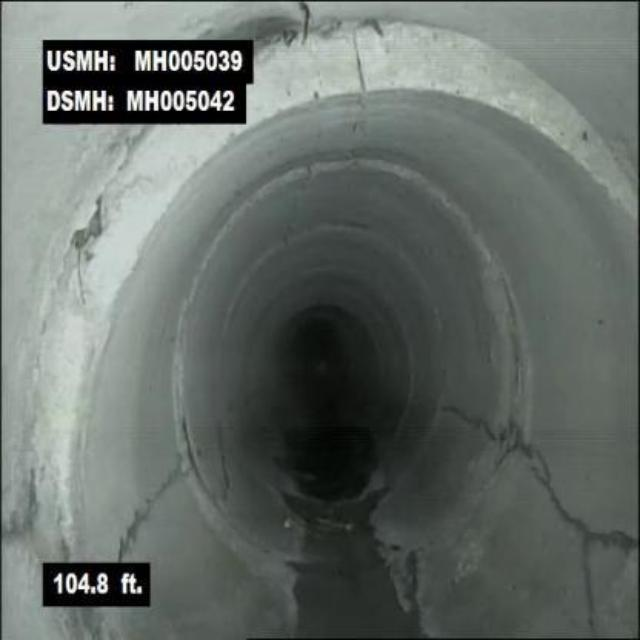Crack: (535, 457, 638, 538), (111, 474, 183, 558), (577, 545, 605, 634)
Joint offset: (26, 132, 145, 440), (375, 6, 597, 137), (257, 22, 345, 135)
